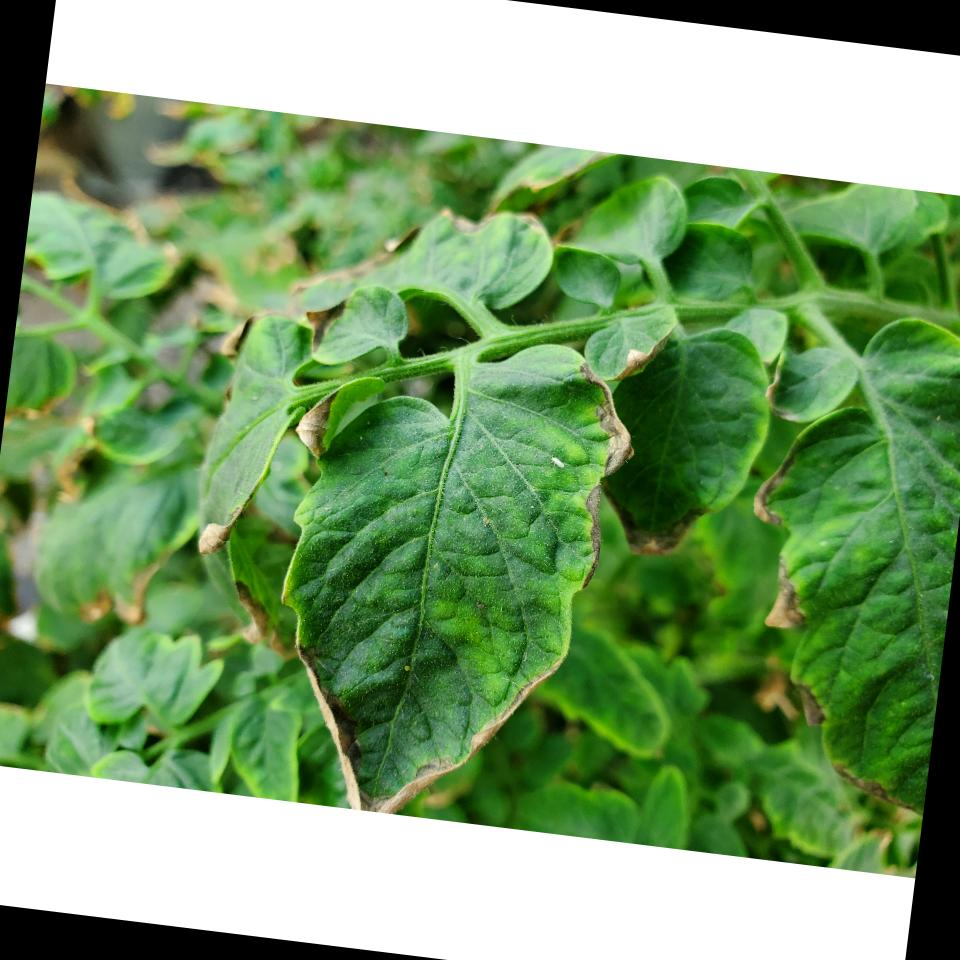tomato_bacterial_blight: (242, 284, 654, 837), (722, 396, 960, 877)
